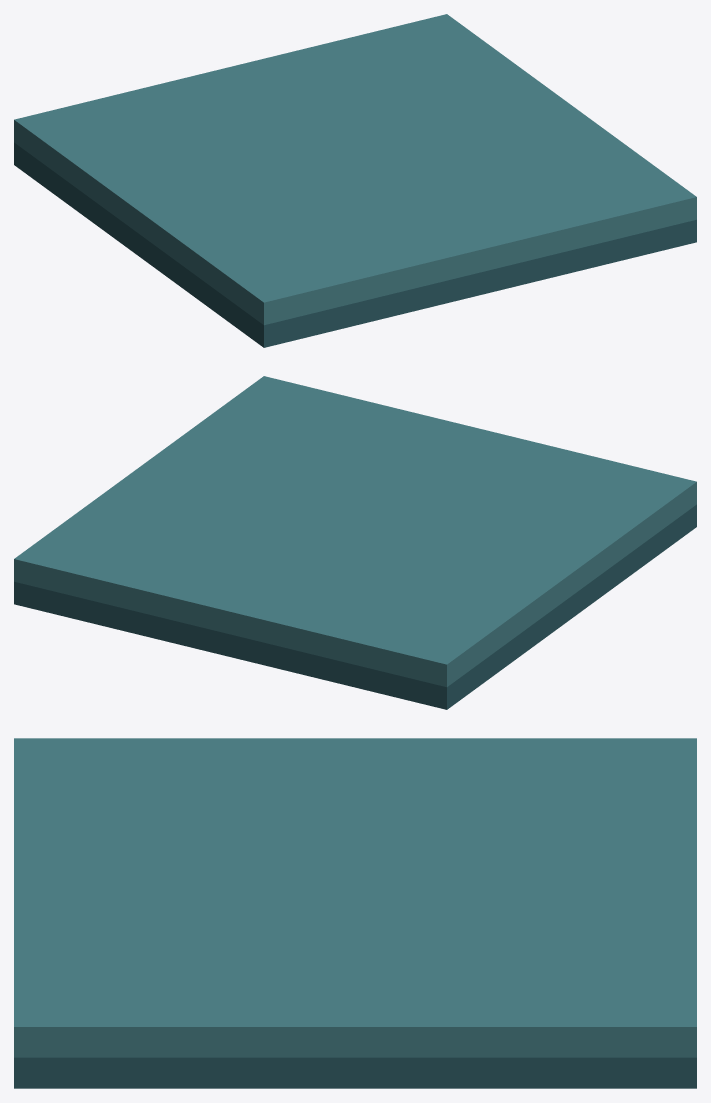
File: SM_Mod_Water_Pond.fbx
3 views of the same model, one above another, from view 1: azimuth 30°, elevation 25°; view 2: azimuth 150°, elevation 25°; view 3: azimuth 270°, elevation 25° (orthographic). The views are drawn at different scales.
Parts seen in each view (by area): view 1: SM_Mod_Water_Pond; view 2: SM_Mod_Water_Pond; view 3: SM_Mod_Water_Pond.
Boxes of the visible parts, x1,y1,x2,y2 form: SM_Mod_Water_Pond: (14, 14, 696, 347); SM_Mod_Water_Pond: (14, 376, 696, 709); SM_Mod_Water_Pond: (14, 738, 696, 1088).
Bounding box in the file's own units: 2 × 0.2 × 2.
Materials: 1 (1 with a texture image).
